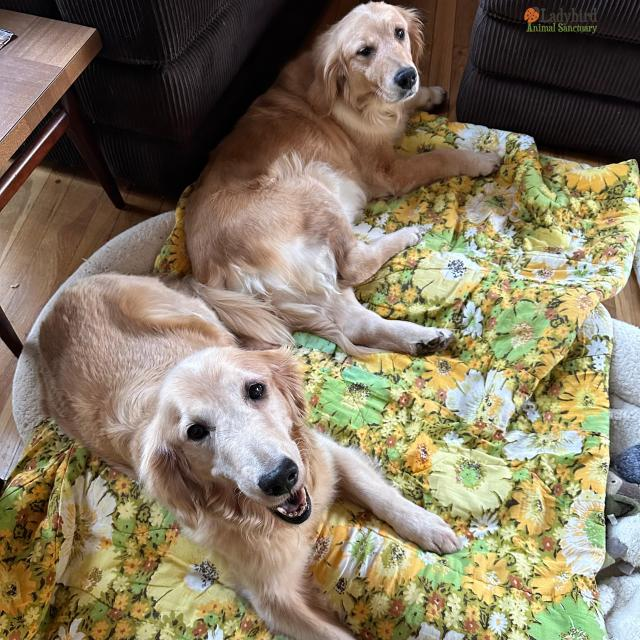golden_retriever_dog: (130, 332, 333, 550), (296, 3, 439, 124)
